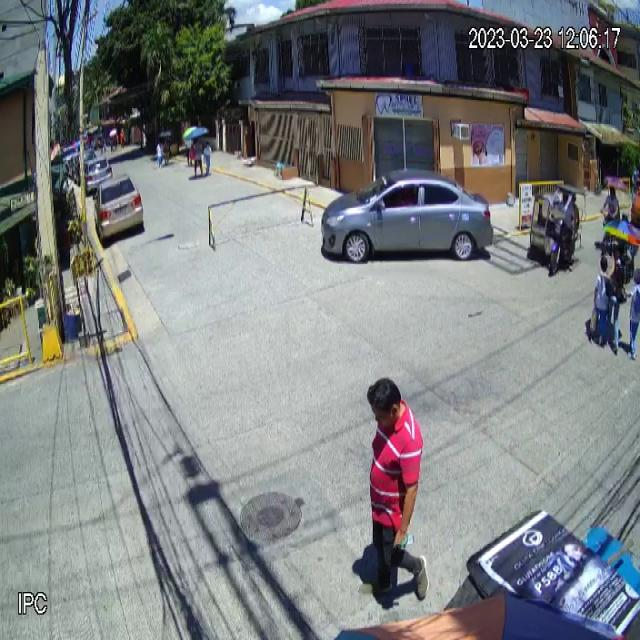Car: (317, 159, 493, 270)
Tricycle: (529, 180, 582, 275)
